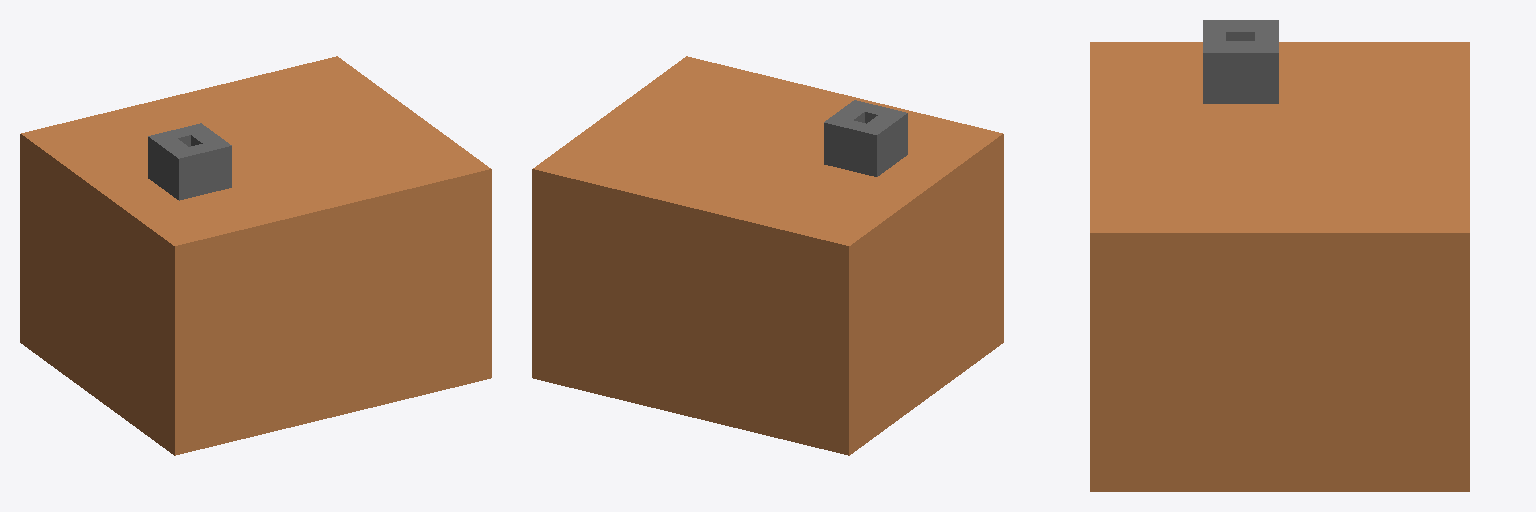
The robot description file, URDF, robot "peg_in_hole_scene_0068_tol01":
<?xml version="1.0"?>
<robot name="peg_in_hole_scene_0068_tol01">
  <material name="wood"><color rgba="0.82 0.56 0.35 1.0"/></material>
  <material name="hole_grey"><color rgba="0.4706 0.4706 0.4706 1.0"/></material>
  <link name="box">
    <visual>
      <origin xyz="0.000000 0.000000 0.000000" rpy="0 0 0"/>
      <geometry><box size="0.475000 0.400000 0.300000"/></geometry>
      <material name="wood"/>
    </visual>
    <collision>
      <origin xyz="0.000000 0.000000 0.000000" rpy="0 0 0"/>
      <geometry><box size="0.475000 0.400000 0.300000"/></geometry>
    </collision>
    <visual>
      <origin xyz="-0.122687 -0.041370 0.155000" rpy="0 0 0"/>
      <geometry><box size="0.080000 0.080000 0.010000"/></geometry>
      <material name="hole_grey"/>
    </visual>
    <collision>
      <origin xyz="-0.122687 -0.041370 0.155000" rpy="0 0 0"/>
      <geometry><box size="0.080000 0.080000 0.010000"/></geometry>
    </collision>
    <visual>
      <origin xyz="-0.097575 -0.041370 0.185000" rpy="0 0 0"/>
      <geometry><box size="0.029775 0.080000 0.050000"/></geometry>
      <material name="hole_grey"/>
    </visual>
    <collision>
      <origin xyz="-0.097575 -0.041370 0.185000" rpy="0 0 0"/>
      <geometry><box size="0.029775 0.080000 0.050000"/></geometry>
    </collision>
    <visual>
      <origin xyz="-0.147799 -0.041370 0.185000" rpy="0 0 0"/>
      <geometry><box size="0.029775 0.080000 0.050000"/></geometry>
      <material name="hole_grey"/>
    </visual>
    <collision>
      <origin xyz="-0.147799 -0.041370 0.185000" rpy="0 0 0"/>
      <geometry><box size="0.029775 0.080000 0.050000"/></geometry>
    </collision>
    <visual>
      <origin xyz="-0.122687 -0.013758 0.185000" rpy="0 0 0"/>
      <geometry><box size="0.020449 0.024775 0.050000"/></geometry>
      <material name="hole_grey"/>
    </visual>
    <collision>
      <origin xyz="-0.122687 -0.013758 0.185000" rpy="0 0 0"/>
      <geometry><box size="0.020449 0.024775 0.050000"/></geometry>
    </collision>
    <visual>
      <origin xyz="-0.122687 -0.068983 0.185000" rpy="0 0 0"/>
      <geometry><box size="0.020449 0.024775 0.050000"/></geometry>
      <material name="hole_grey"/>
    </visual>
    <collision>
      <origin xyz="-0.122687 -0.068983 0.185000" rpy="0 0 0"/>
      <geometry><box size="0.020449 0.024775 0.050000"/></geometry>
    </collision>
    <inertial>
      <mass value="500"/>
      <friction value="1.0"/>
      <inertia ixx="1000.0" ixy="0.0" ixz="0.0" iyy="1000.0" iyz="0.0" izz="1000.0"/>
    </inertial>
  </link>
</robot>

--- What the picture shows (computed from the rendered views, not written in the file) ---
Views: 3 orthographic renders of the robot side by side, from view 1: azimuth 30°, elevation 25°; view 2: azimuth 150°, elevation 25°; view 3: azimuth 270°, elevation 25°.
Model peg_in_hole_scene_0068_tol01 with 1 links and 0 joints (none), rooted at box, posed every joint at zero.
Visible links, largest first — view 1: box; view 2: box; view 3: box.
Boxes of the visible links, x1,y1,x2,y2 form: box: (20,56,491,455); box: (532,56,1003,455); box: (1090,20,1469,491).
Bounding box of the posed robot: 0.475 × 0.4 × 0.36 m (x, y, z).
Geometry: primitives only (box / cylinder / sphere), no mesh files.
